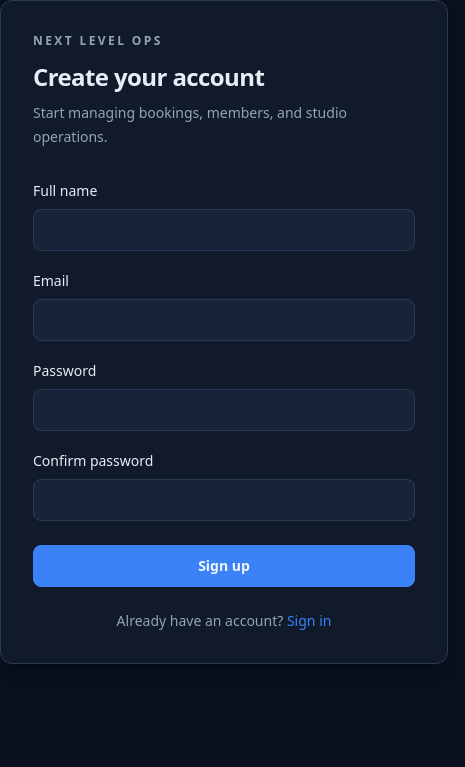
Test: SignUpForm › renders password mismatch error returned by the action
Type "Alex Morgan" into the field labelled "Full name" at (224, 230), box [33,209,415,251]
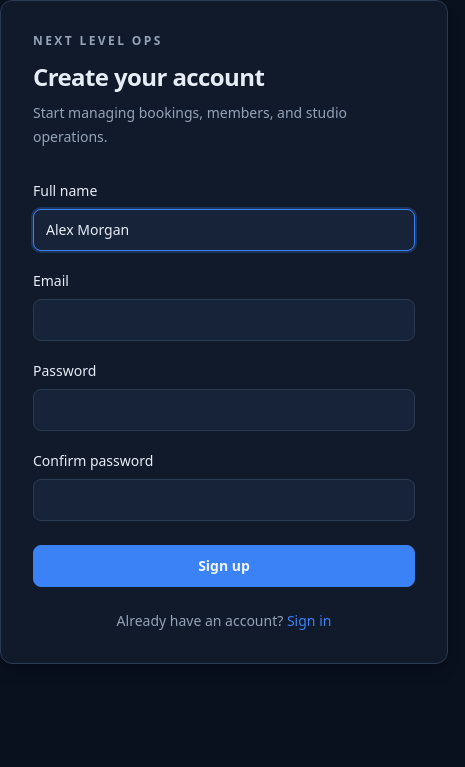
Type "alex@example.com" into the field labelled "Email" at (224, 320), box [33,299,415,341]
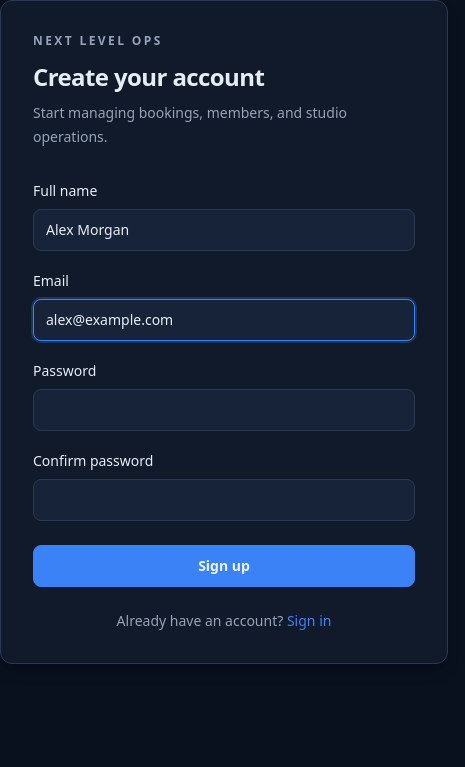
Type "secure-password" into the password field labelled "Password" at (224, 410), box [33,389,415,431]
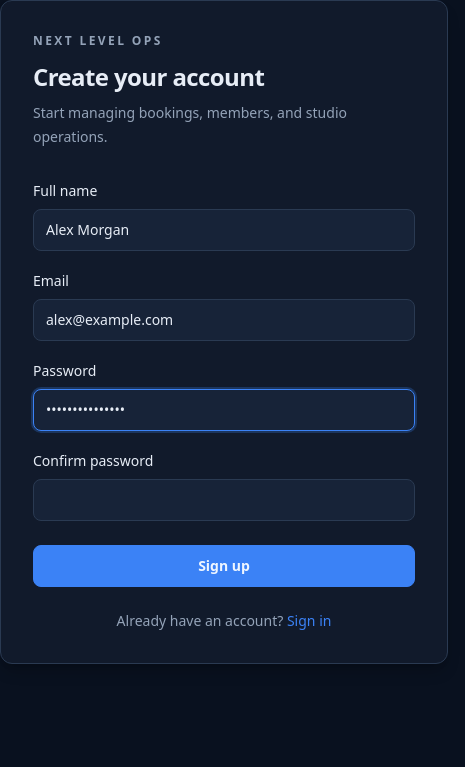
Type "different-password" into the password field labelled "Confirm password" at (224, 500), box [33,479,415,521]
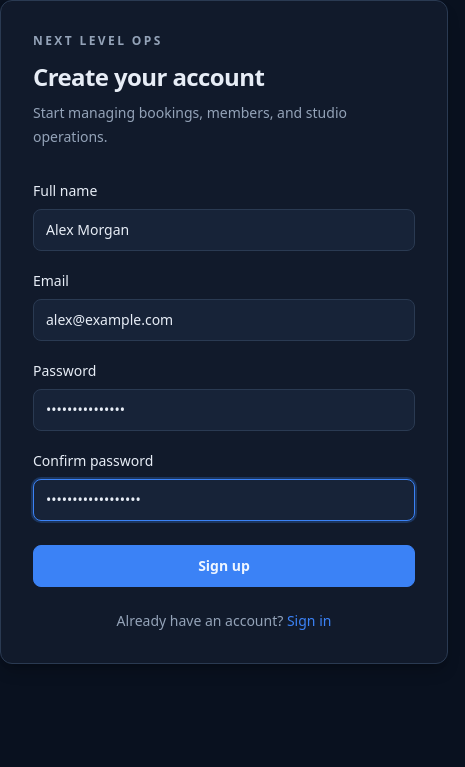
Click the button "Sign up" at (224, 566), box [33,545,415,587]
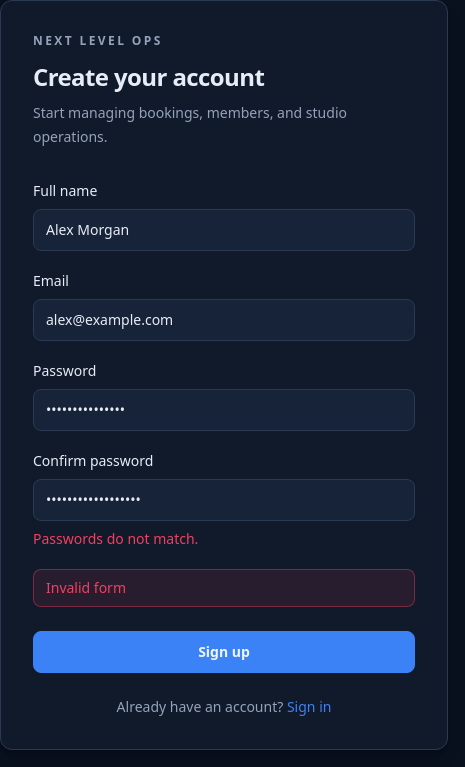
Now the text "Passwords do not match." is shown, box [33,529,198,548]
Now the message reads "Invalid form", box [46,578,126,597]
